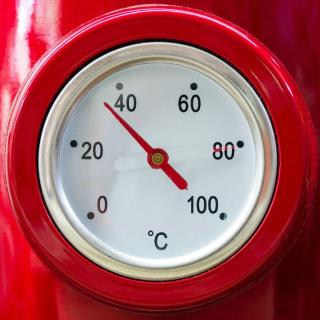gauge: (0, 0, 318, 318), (82, 198, 110, 230), (205, 201, 232, 227), (146, 147, 168, 169), (99, 97, 113, 111)
